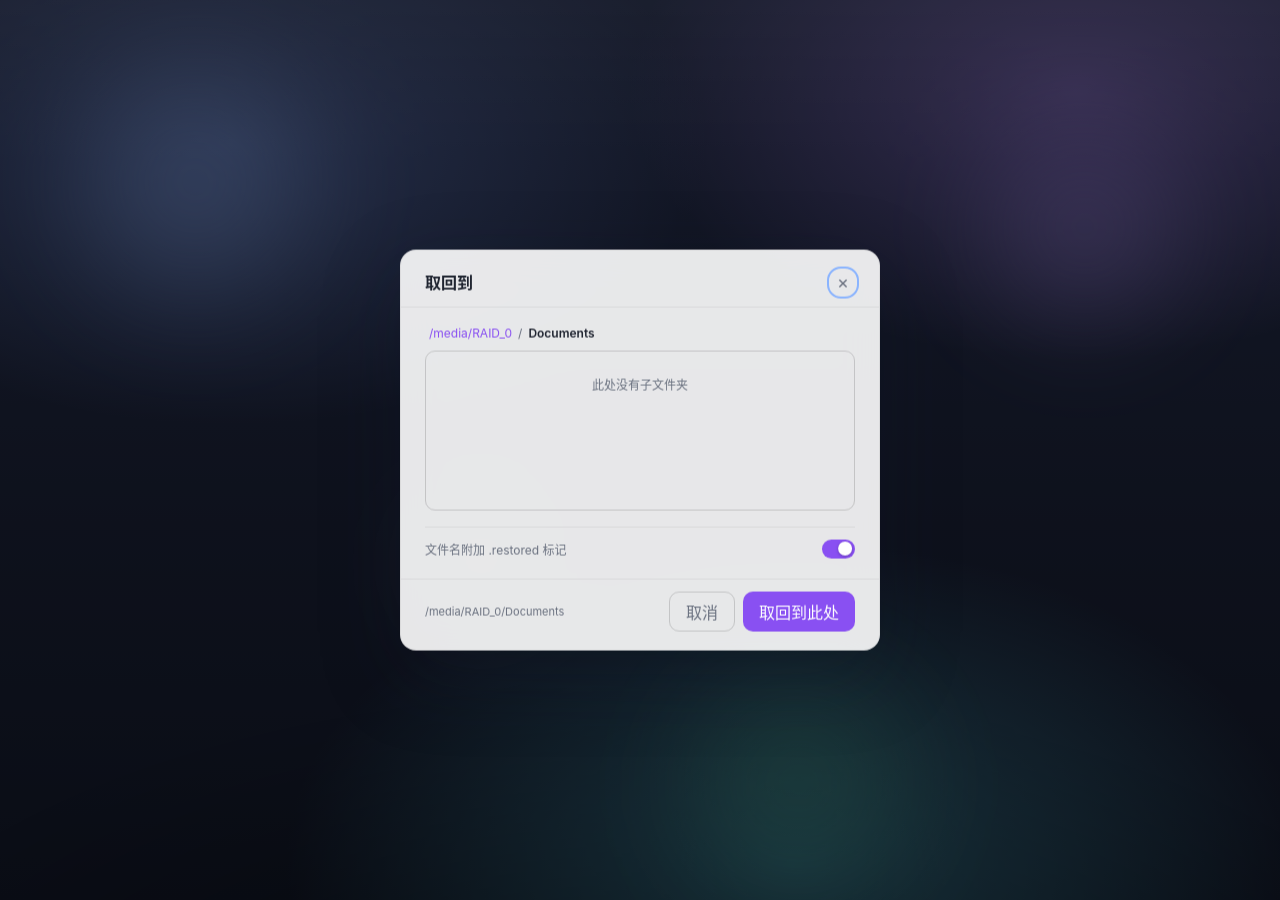
Test: RestoreDestinationModal — the ".restored marker" toggle + hint › shows the "you'll be asked" hint once the toggle is switched off
The width and height of the screenshot is (1280, 900).
What coordinates should you click on to do the following:
click the switch with class "rdm-switch"
I would click on:
 (838, 549)
Its box is [822,540,855,558].
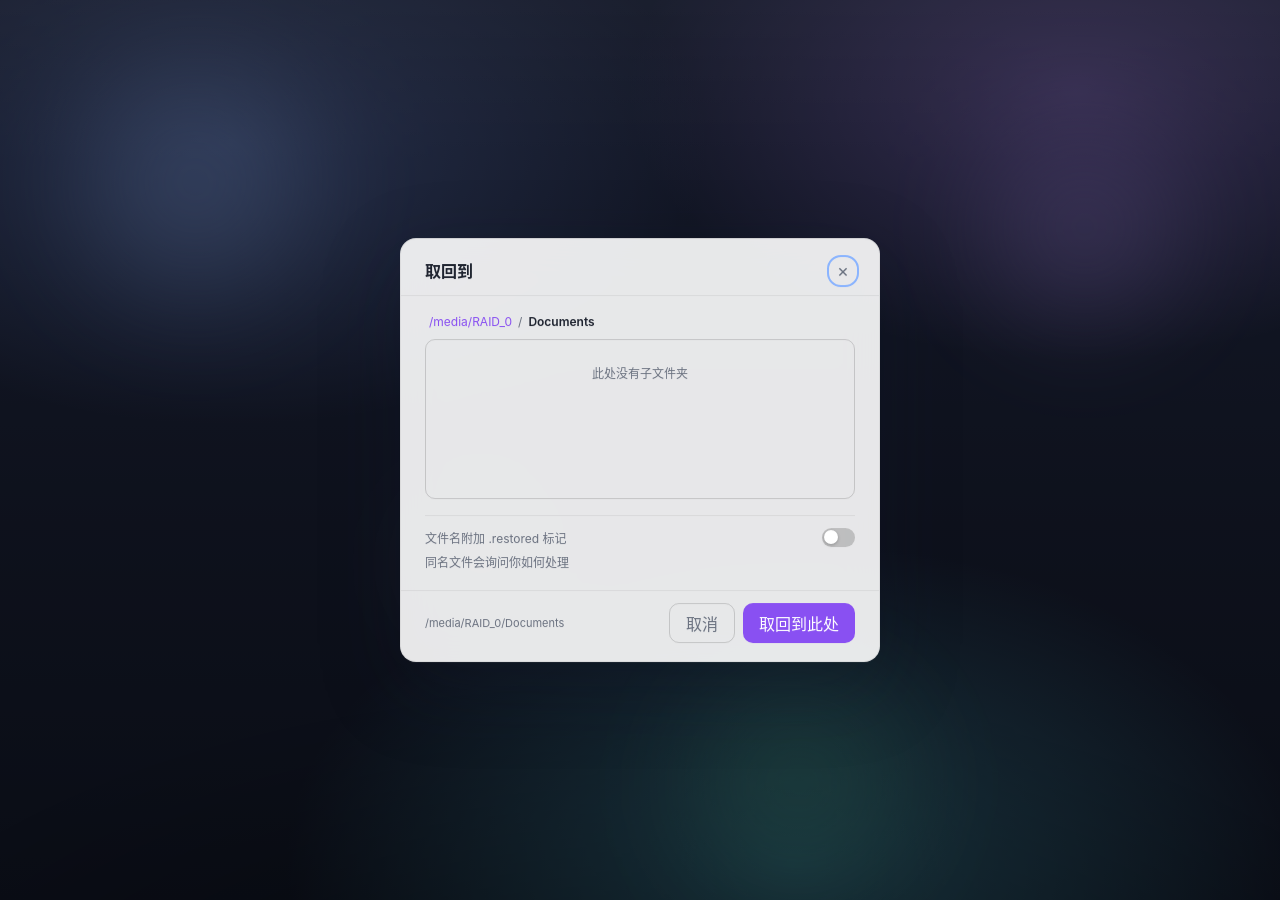
Check: the text "同名文件会询问你如何处理" is shown, box [425,555,569,570]
